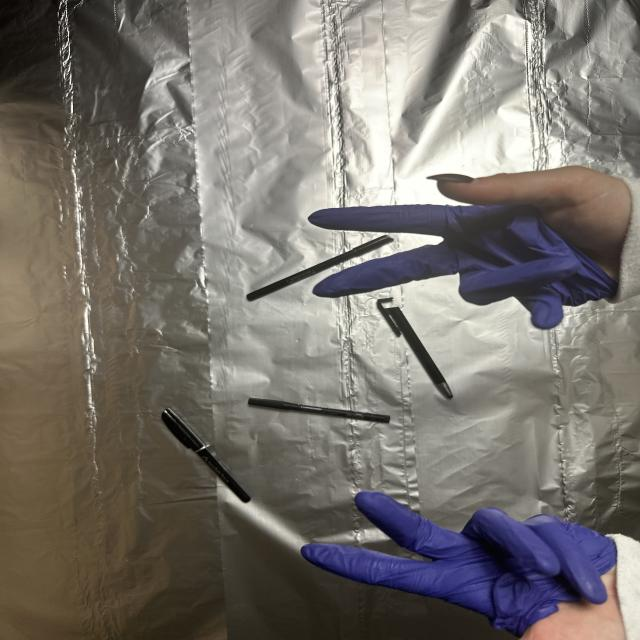glove_partial: (306, 166, 640, 330), (296, 487, 631, 640)
